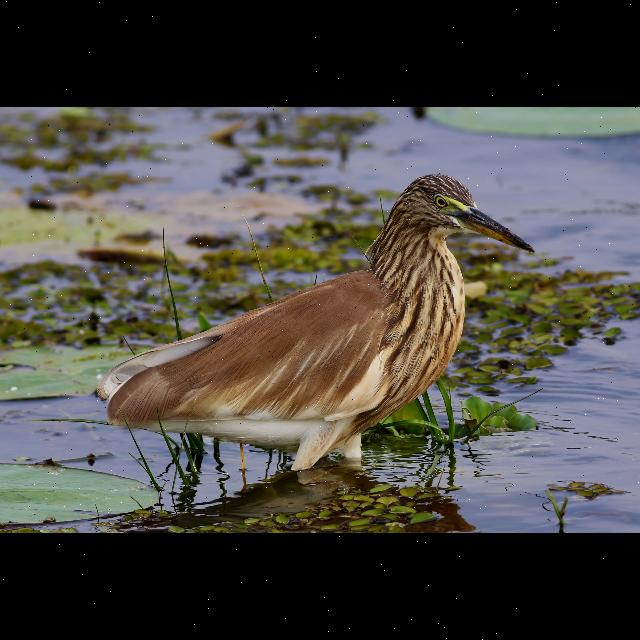heron: (82, 170, 546, 476)
